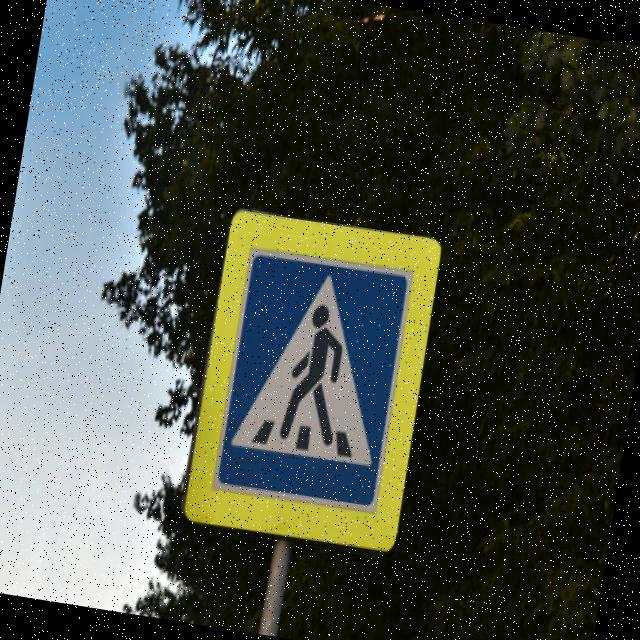crosswalk: (204, 238, 415, 516)
